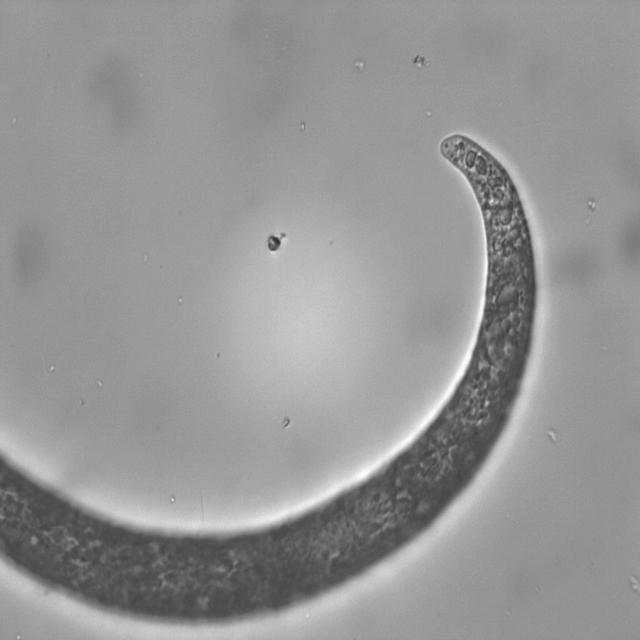Helicotylenchus: (374, 126, 546, 478)
